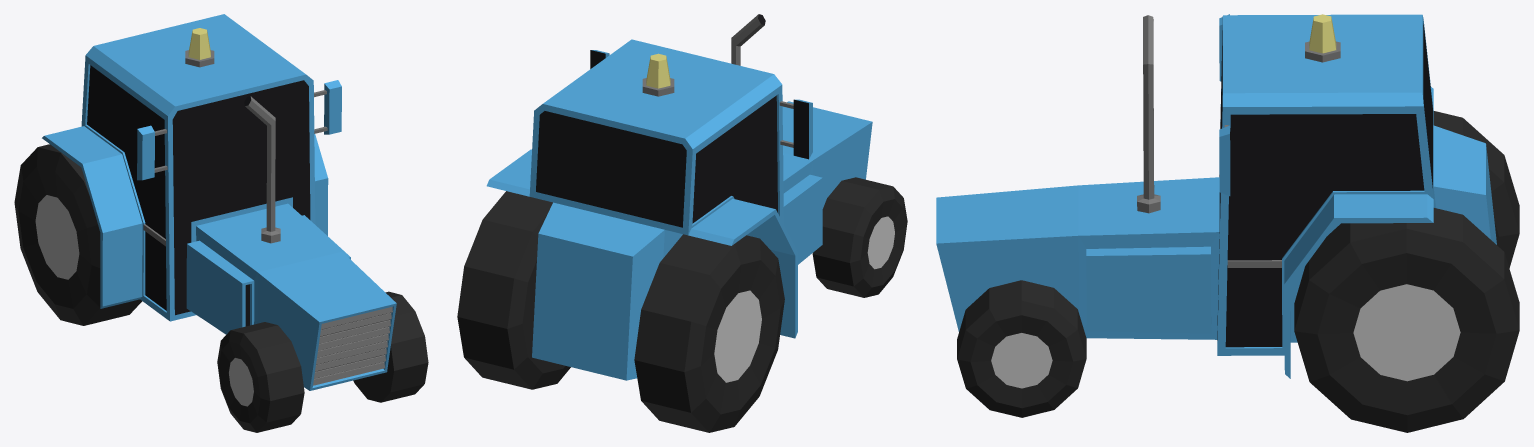
The model's file is Tractor_02_03.fbx.
3 views of the same model, side by side, from view 1: azimuth 30°, elevation 25°; view 2: azimuth 150°, elevation 25°; view 3: azimuth 270°, elevation 25° (orthographic). The views are drawn at different scales.
Parts seen in each view (by area): view 1: Tractor_02_03; view 2: Tractor_02_03; view 3: Tractor_02_03.
Boxes of the visible parts, x1,y1,x2,y2 form: Tractor_02_03: (14, 14, 428, 432); Tractor_02_03: (457, 14, 907, 432); Tractor_02_03: (936, 14, 1519, 432).
Bounding box in the file's own units: 3.42 × 4.19 × 6.3.
